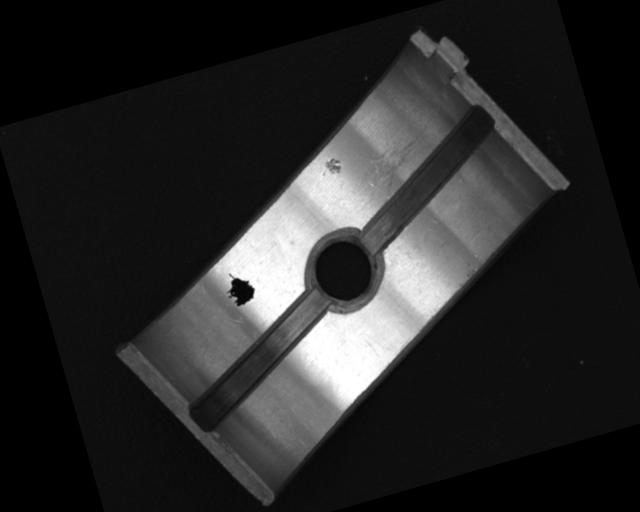blot: (221, 267, 259, 310)
bruise: (318, 155, 344, 178)
gap: (337, 102, 519, 256), (169, 287, 346, 433)
hole: (299, 226, 388, 315)
scratch: (359, 123, 447, 203)
